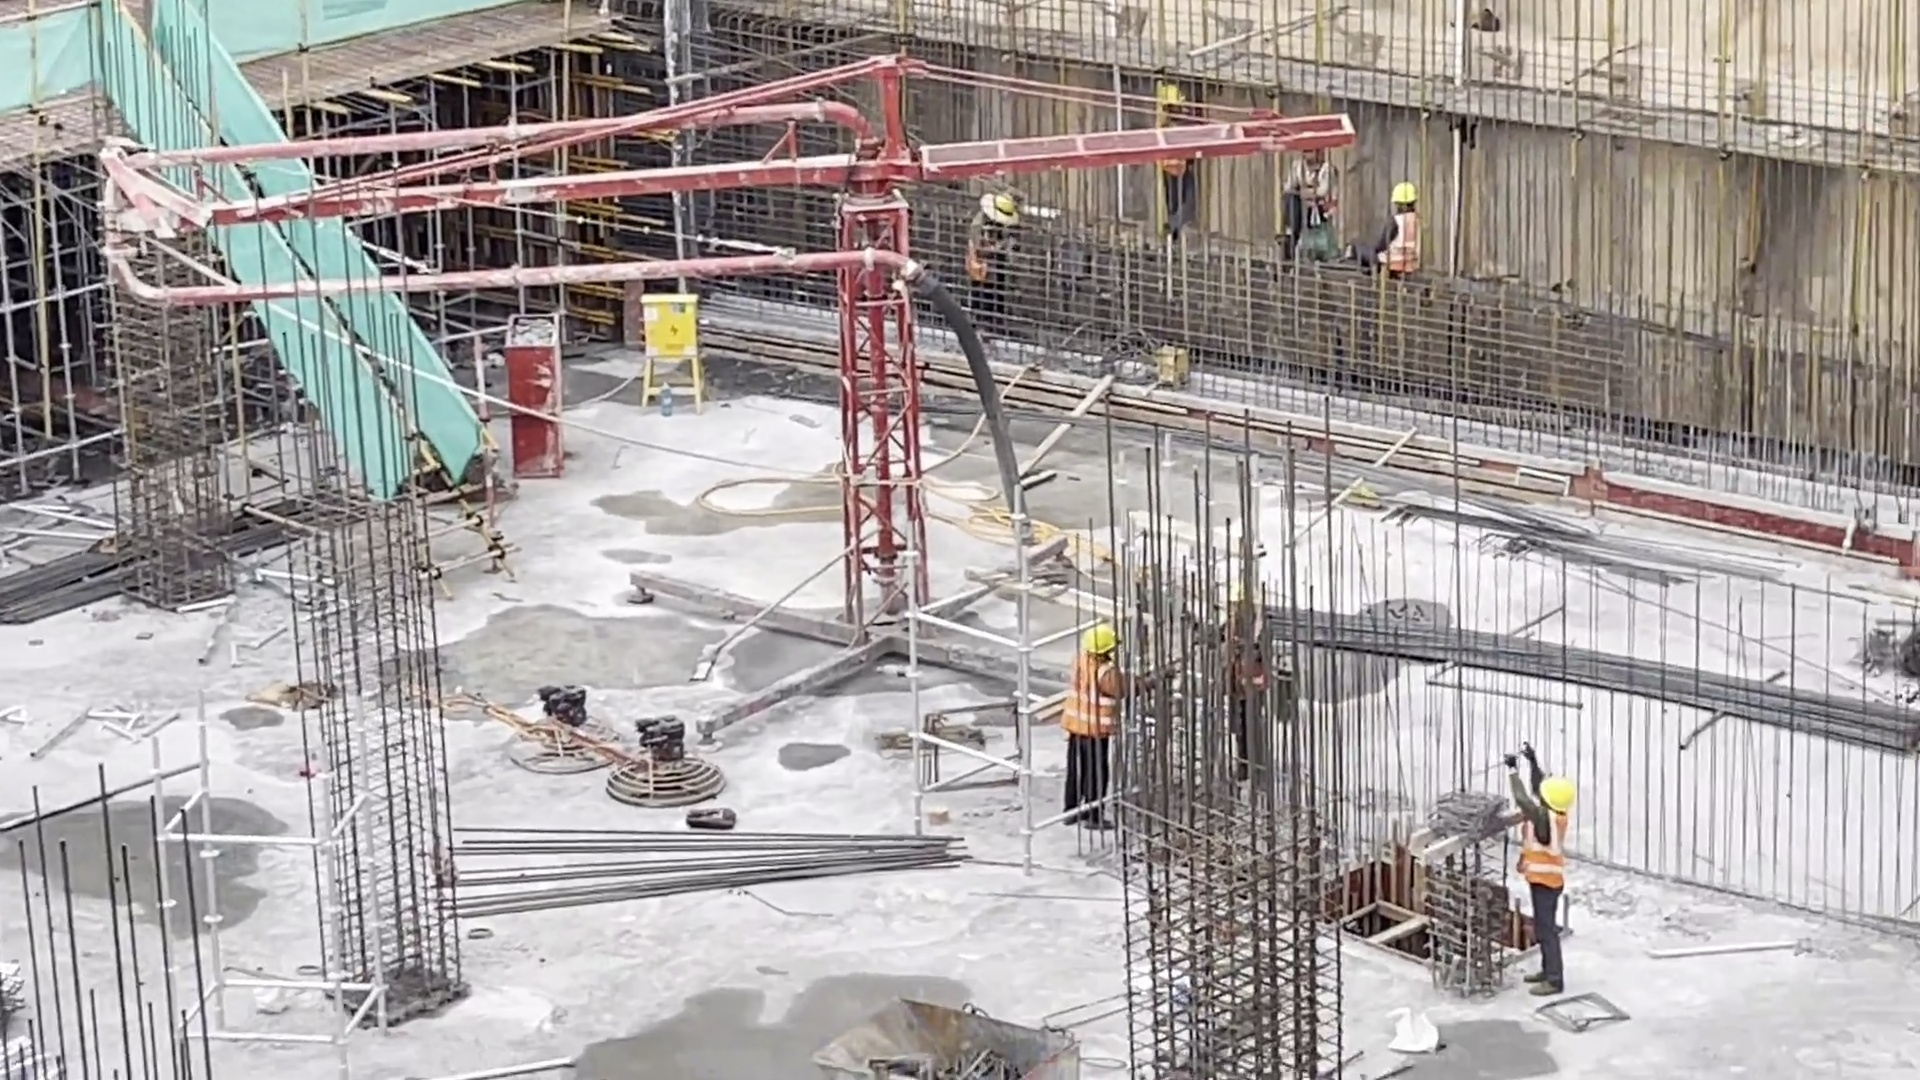helmet: (1537, 769, 1576, 814), (1083, 619, 1120, 660), (988, 183, 1020, 228), (1390, 180, 1426, 204)
person: (1496, 737, 1588, 1011), (1208, 577, 1296, 775), (1063, 614, 1138, 835), (962, 188, 1025, 332), (1379, 171, 1435, 291), (1285, 151, 1341, 257)
vest: (1064, 656, 1123, 739), (1526, 812, 1579, 895), (1392, 219, 1432, 271)
